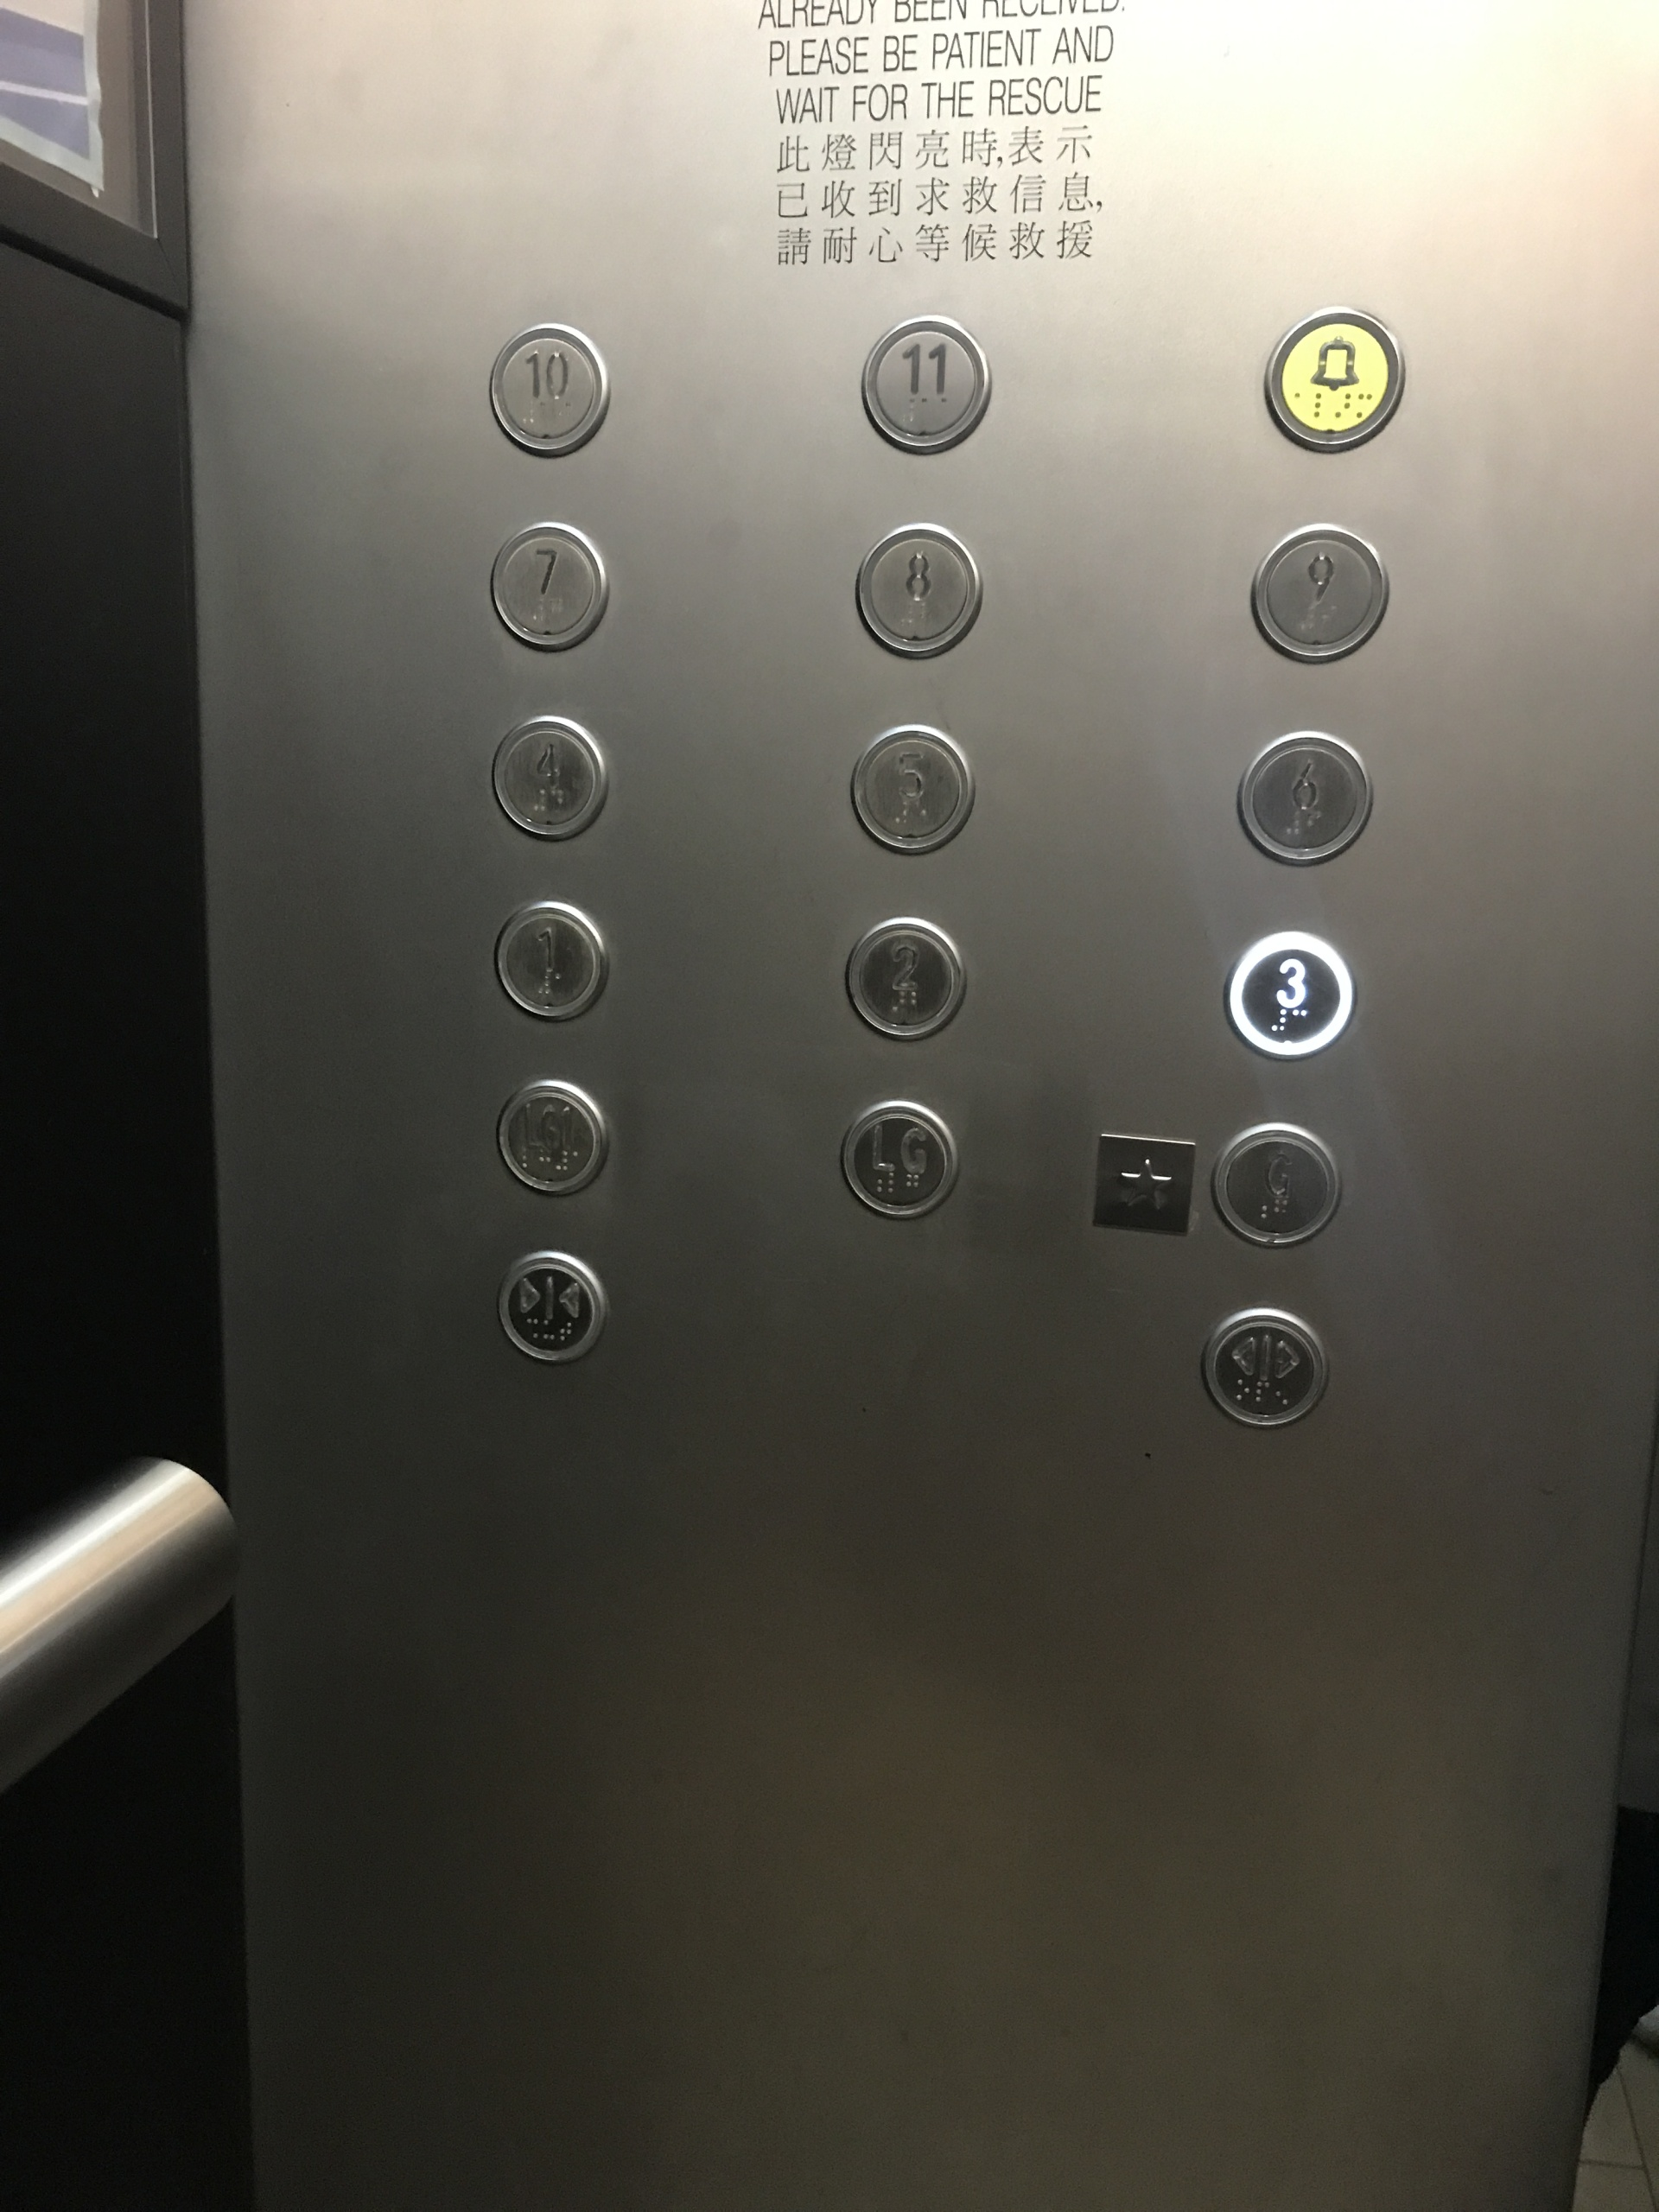1: (488, 899, 613, 1028)
10: (481, 315, 619, 463)
11: (859, 310, 995, 458)
2: (840, 913, 971, 1043)
3: (1225, 925, 1359, 1064)
4: (483, 707, 617, 846)
5: (847, 718, 981, 855)
6: (1232, 726, 1380, 869)
7: (483, 517, 617, 655)
8: (847, 519, 988, 660)
9: (1244, 514, 1398, 669)
G: (1208, 1120, 1349, 1252)
LG: (831, 1097, 964, 1223)
LG1: (488, 1075, 613, 1197)
alarm: (1256, 301, 1410, 456)
close: (491, 1242, 610, 1371)
open: (1197, 1303, 1335, 1430)
s: (1084, 1122, 1202, 1242)
